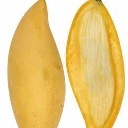mango: (7, 1, 66, 128)
